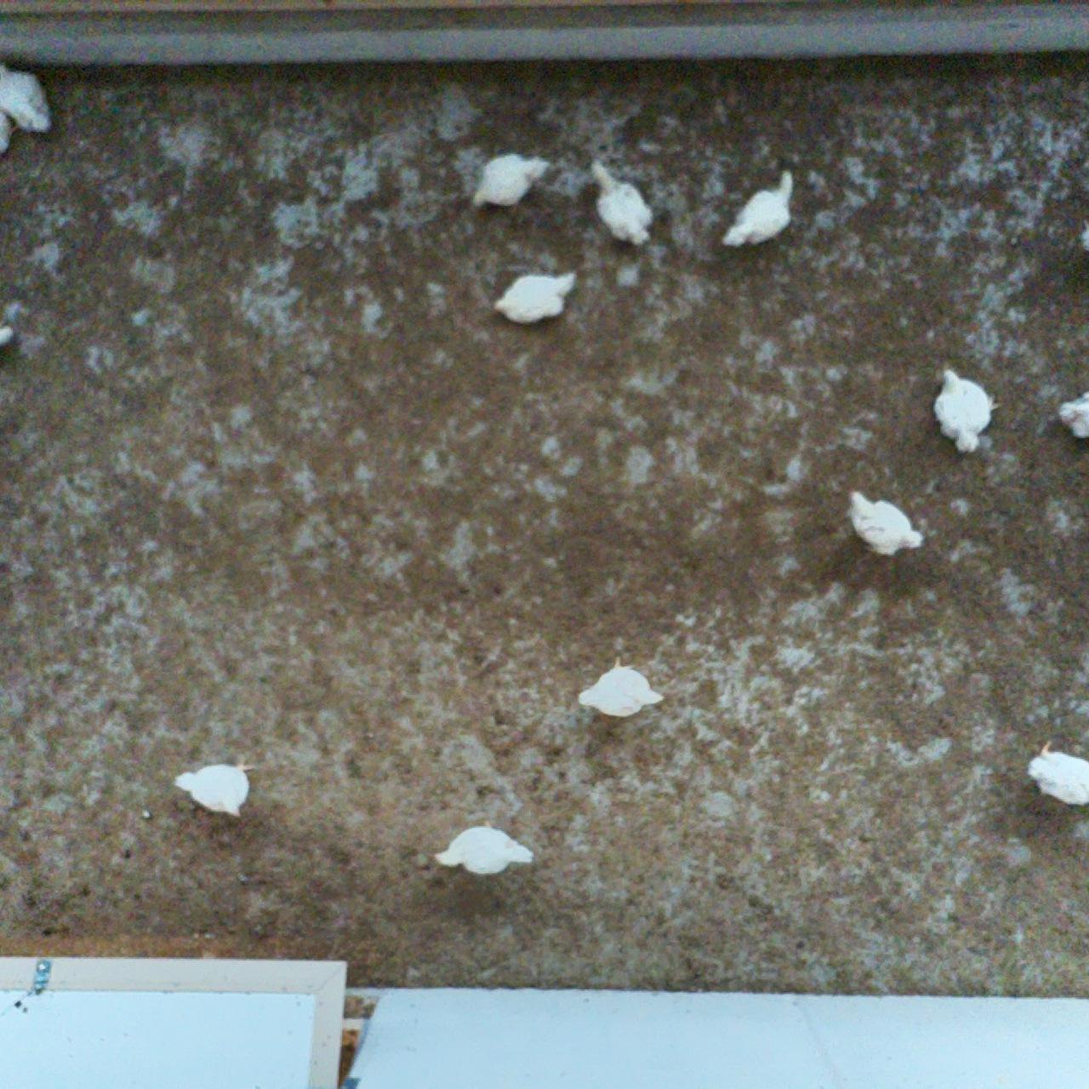chicken: (430, 813, 539, 880), (574, 649, 669, 723), (584, 155, 659, 248), (722, 166, 799, 254), (170, 754, 265, 823), (931, 363, 1002, 455), (843, 485, 927, 561), (467, 149, 555, 215), (489, 269, 583, 327), (1023, 733, 1089, 811), (0, 57, 55, 139), (1054, 382, 1089, 443)
